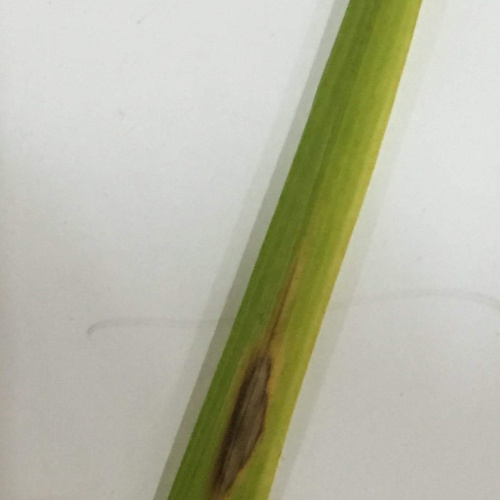Busuk Leher: (208, 351, 285, 495)
